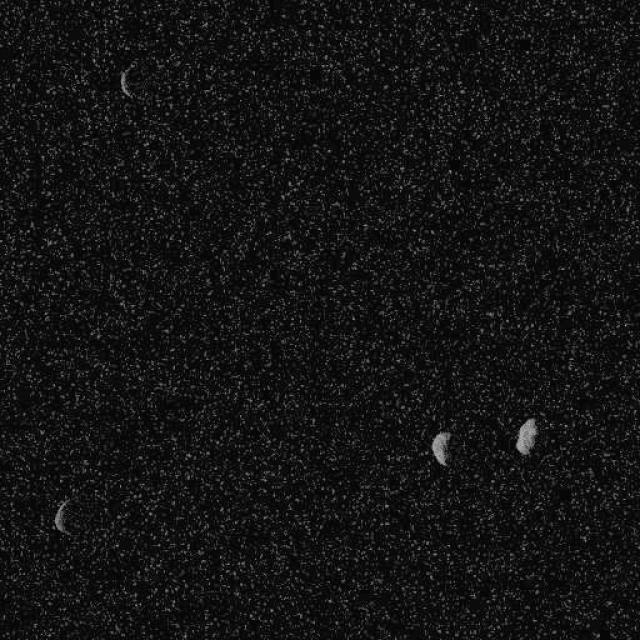D2: (52, 496, 82, 536), (514, 416, 538, 456), (430, 430, 451, 466), (119, 63, 136, 99)
